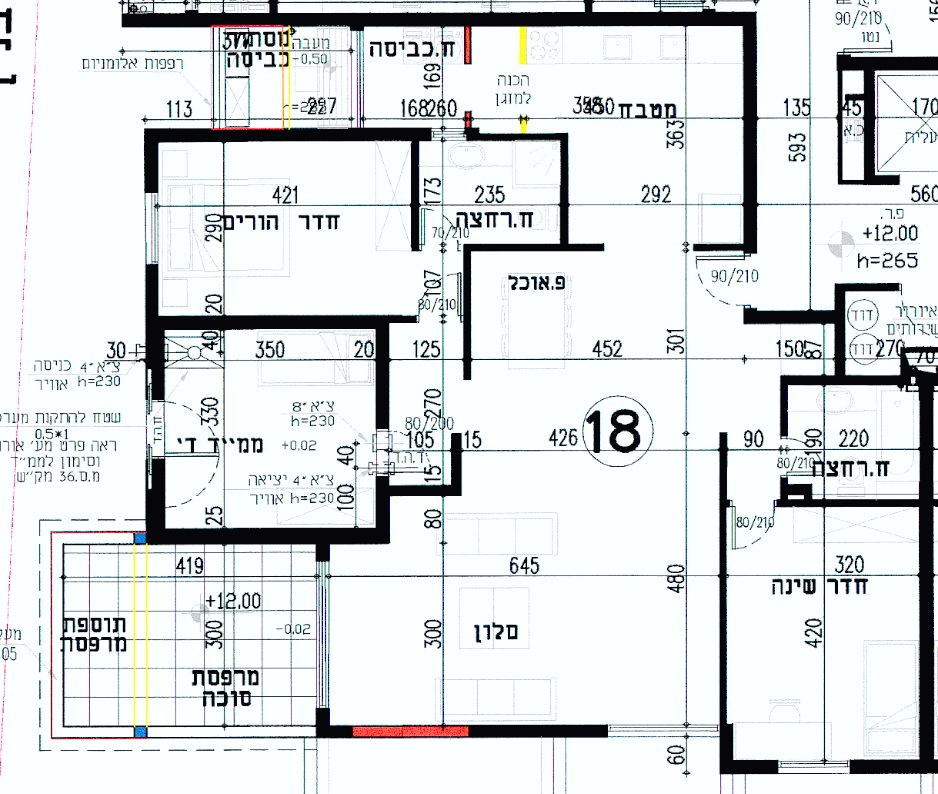door: (687, 252, 740, 314), (728, 508, 777, 557), (421, 208, 464, 244)
wall: (121, 12, 754, 26), (144, 128, 431, 141), (147, 316, 390, 329), (744, 26, 755, 253), (376, 330, 389, 429), (463, 244, 471, 380), (560, 132, 569, 244), (411, 142, 420, 251), (472, 244, 604, 251)
window: (317, 562, 328, 708), (606, 724, 719, 737), (144, 191, 158, 264), (776, 760, 851, 773), (430, 126, 468, 141)
